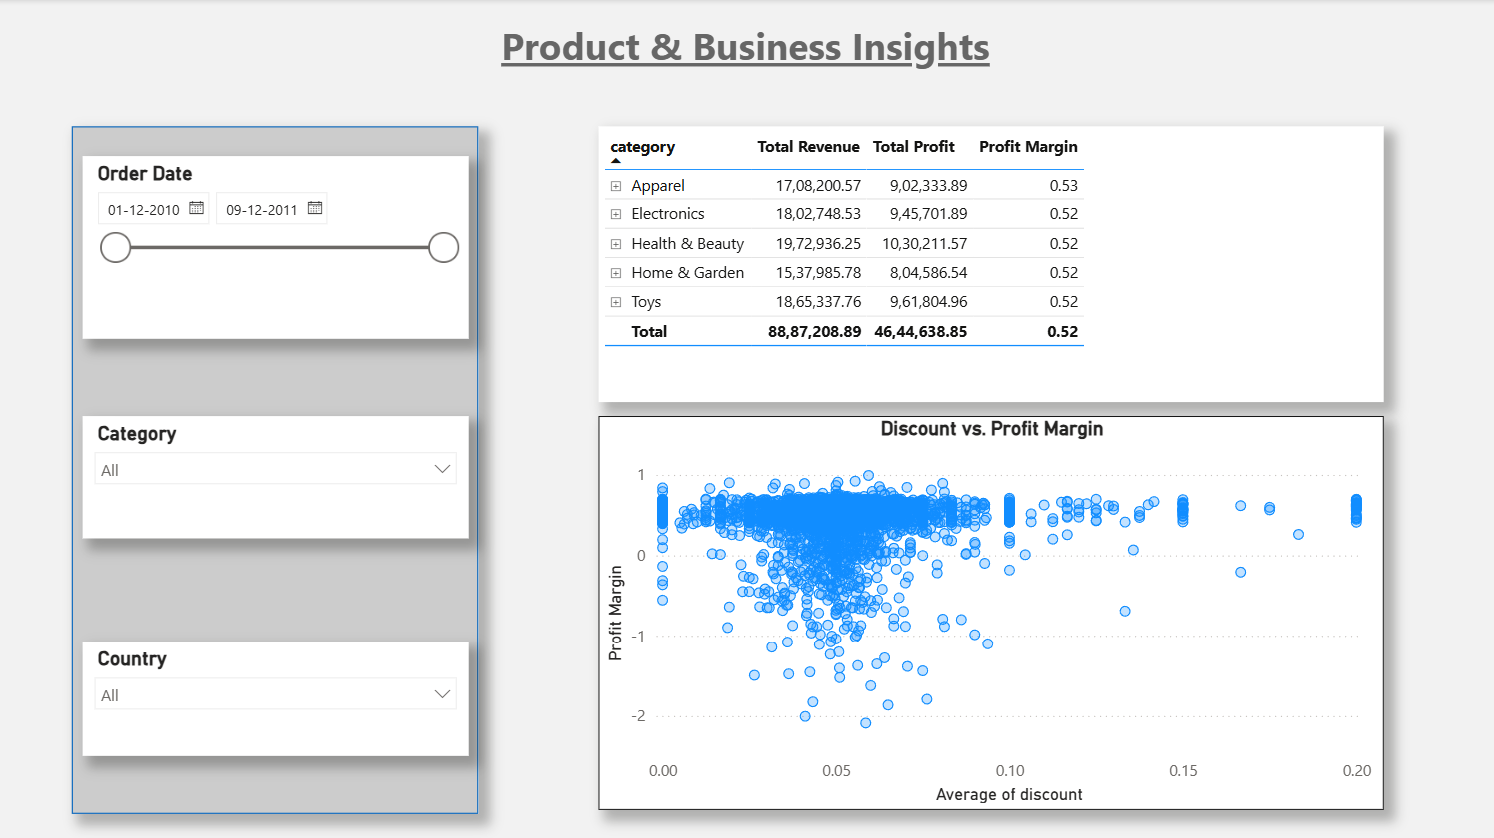

What the dashboard file says about the page in this screenshot:
{"tool":"powerbi","page":{"name":"Product & Business Insights","canvas":[1280,720],"ordinal":2},"visuals":[{"type":"shape","box":[61.8,108.5,348.3,590],"z":0},{"type":"textbox","box":[410,13.3,458.3,61.7],"z":1000},{"type":"pivotTable","fields":{"Rows":["products.category","products.product_name"],"Values":["_Measures.Total Revenue","_Measures.Total Profit","_Measures.Profit Margin"]},"box":[512.4,108.5,673.1,236.5],"z":2000},{"type":"scatterChart","title":"Discount vs. Profit Margin","fields":{"X":["Avg(order_items.discount)"],"Y":["_Measures.Profit Margin"],"Category":["products.product_id"]},"box":[512.4,357.1,673.1,338.5],"z":3000},{"type":"slicer","fields":{"Values":["orders.order_date"]},"box":[70.7,135,330.6,156.5],"z":4000},{"type":"slicer","fields":{"Values":["products.category"]},"box":[70.7,357.1,330.6,104.7],"z":5000},{"type":"slicer","fields":{"Values":["customers.country"]},"box":[70.7,551.5,330.6,98.4],"z":6000}]}

Visuals, with their boxes in screenshot pixels (x1, y1, x2, y2), scaled from the page's 1280x720 canvas onto the 1494x838 screenshot:
shape: Rect(72, 126, 479, 813)
textbox: Rect(479, 15, 1013, 87)
pivotTable - products.category x products.product_name: Rect(598, 126, 1384, 402)
"Discount vs. Profit Margin" scatterChart: Rect(598, 416, 1384, 810)
slicer - orders.order_date: Rect(83, 157, 468, 339)
slicer - products.category: Rect(83, 416, 468, 537)
slicer - customers.country: Rect(83, 642, 468, 756)
